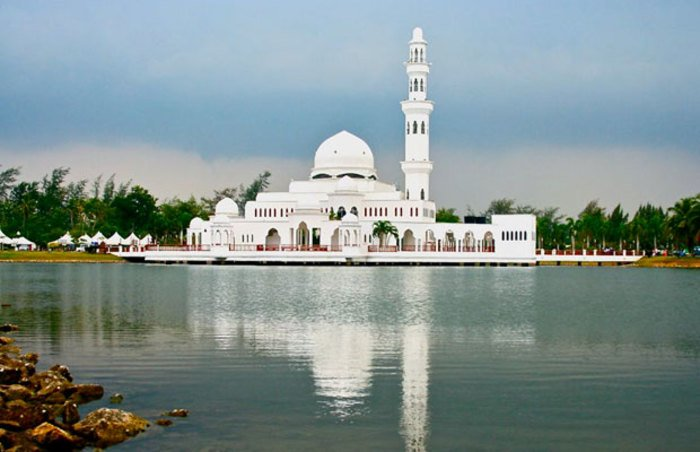Mosque: (168, 30, 533, 271)
